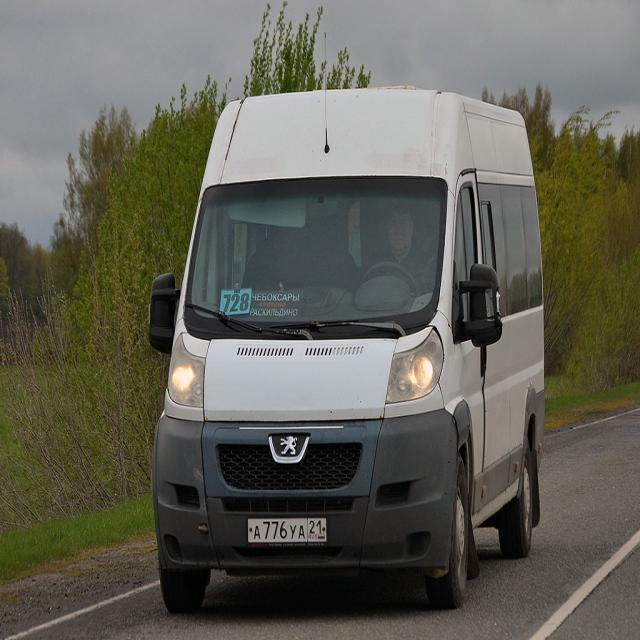number-of-bus: (222, 285, 254, 318)
